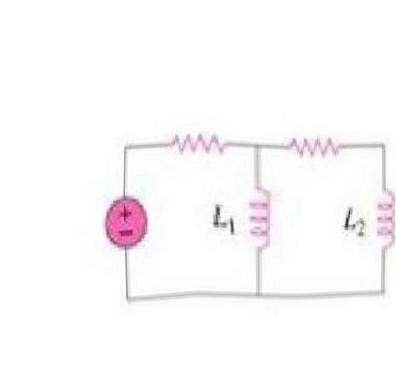Battery: (90, 185, 156, 258)
